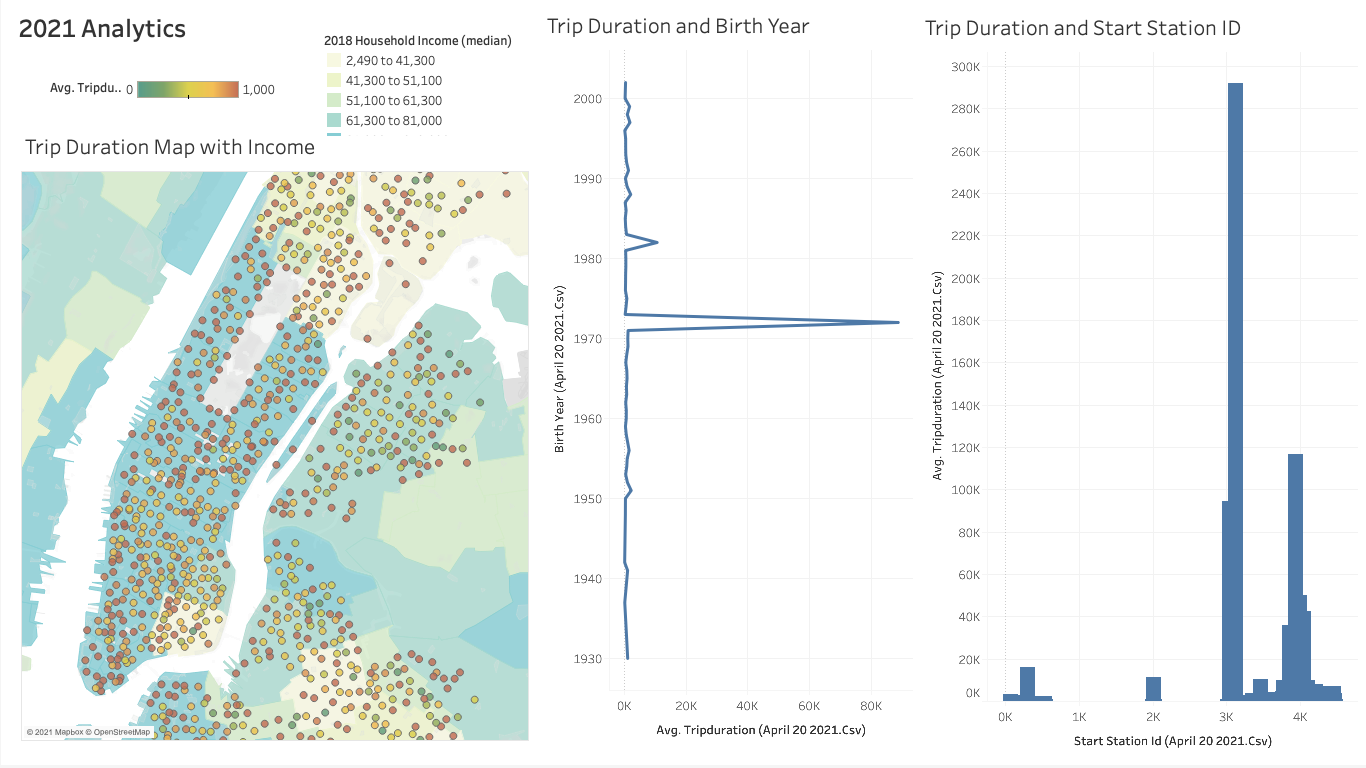

This screenshot's page, from the dashboard's own definition file:
{"tool":"tableau","page":{"name":"2021 Analytics","canvas":[1600,900],"ordinal":1},"visuals":[{"type":"worksheet","box":[0,0,1600,900]},{"type":"worksheet","param":"vert","box":[8,8,1584,884]},{"type":"worksheet","box":[8,8,1584,884]},{"type":"worksheet","box":[17.3,11.2,301.7,47]},{"type":"worksheet","title":"Trip Duration and Birth Year","mark":"Automatic","rows":["birth year (april_20_2021.csv)"],"cols":["tripduration (april_20_2021.csv)"],"box":[634.4,11.5,433.9,864.4]},{"type":"worksheet","title":"Trip Duration and Start Station ID","mark":"Bar","rows":["tripduration (april_20_2021.csv)"],"cols":["start station id (april_20_2021.csv)"],"box":[1077.3,14.4,512.7,875]},{"type":"worksheet","title":"Trip Duration Map with Income","mark":"Multipolygon","rows":["start station latitude (april_20_2021.csv)"],"cols":["start station longitude (april_20_2021.csv)"],"box":[377.9,40.9,235.7,122.6]},{"type":"worksheet","title":"Trip Duration Map with Income","mark":"Multipolygon","rows":["start station latitude (april_20_2021.csv)"],"cols":["start station longitude (april_20_2021.csv)"],"param":"[federated.043kdlx18o5lzn1bf9gws06cmujp].[avg:tripduration (april_20_2021.csv):q","box":[56.9,94,269.2,41.9]},{"type":"worksheet","title":"Trip Duration Map with Income","mark":"Multipolygon","rows":["start station latitude (april_20_2021.csv)"],"cols":["start station longitude (april_20_2021.csv)"],"box":[23.4,153.2,595.3,718.2]}]}

Visuals, with their boxes in screenshot pixels (x1, y1, x2, y2), scaled from the page's 1600x900 canvas onto the 1366x768 screenshot:
worksheet: region(0, 0, 1365, 767)
worksheet: region(7, 7, 1359, 761)
worksheet: region(7, 7, 1359, 761)
worksheet: region(15, 10, 272, 50)
"Trip Duration and Birth Year" worksheet: region(542, 10, 912, 747)
"Trip Duration and Start Station ID" worksheet (Bar marks): region(920, 12, 1357, 759)
"Trip Duration Map with Income" worksheet (Multipolygon marks): region(323, 35, 524, 140)
"Trip Duration Map with Income" worksheet (Multipolygon marks): region(49, 80, 278, 116)
"Trip Duration Map with Income" worksheet (Multipolygon marks): region(20, 131, 528, 744)
